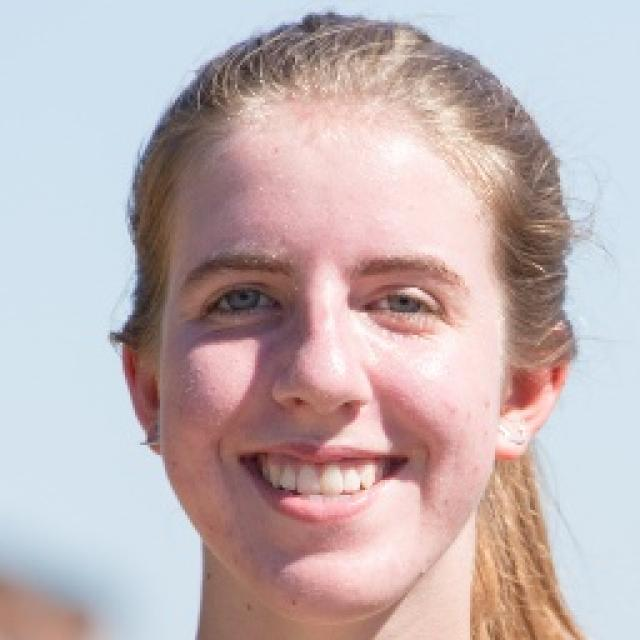earlobe: (493, 427, 532, 461), (139, 424, 162, 459)
eye: (200, 286, 289, 317), (362, 284, 438, 320)
nose: (278, 397, 372, 441)
wholeear: (496, 319, 574, 460), (120, 338, 164, 458)
